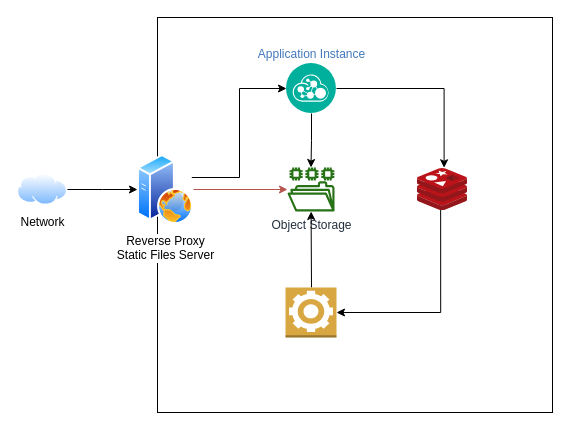
The diagram is 570 pixels wide and 430 high, and some of its shapes have lost their labels. Here are the shapes that lost their labels. From the top down, the centre of each, then its label:
At (442,189): "REDIS server".
At (310,312): "Celery Worker".
